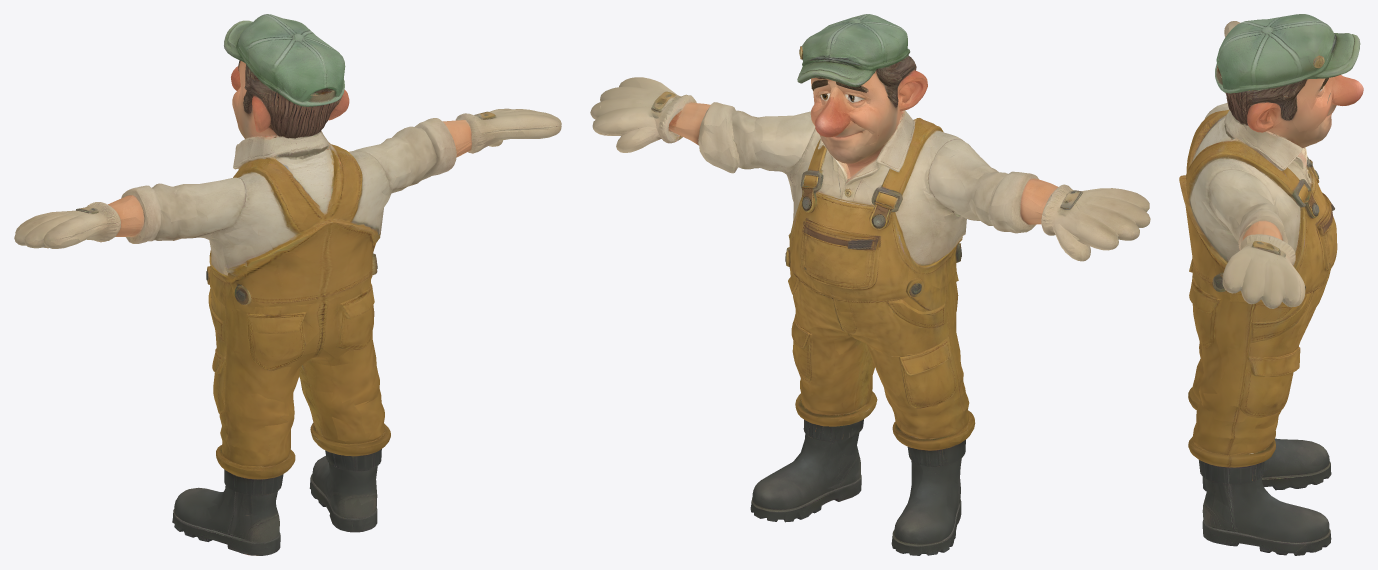
Rendered from worker-tripo-input.glb.
3 renders of one model, left to right at view 1: azimuth 30°, elevation 25°; view 2: azimuth 150°, elevation 25°; view 3: azimuth 270°, elevation 25°, orthographic. The views are drawn at different scales.
Visible parts, largest first — view 1: char1; view 2: char1; view 3: char1.
Boxes of the visible parts, x1=… form: char1: x1=14, y1=14, x2=561, y2=555; char1: x1=590, y1=14, x2=1150, y2=555; char1: x1=1179, y1=14, x2=1363, y2=555.
Bounding box in the file's own units: 1.9 × 1.65 × 0.5598.
1 material, 1 textured.
